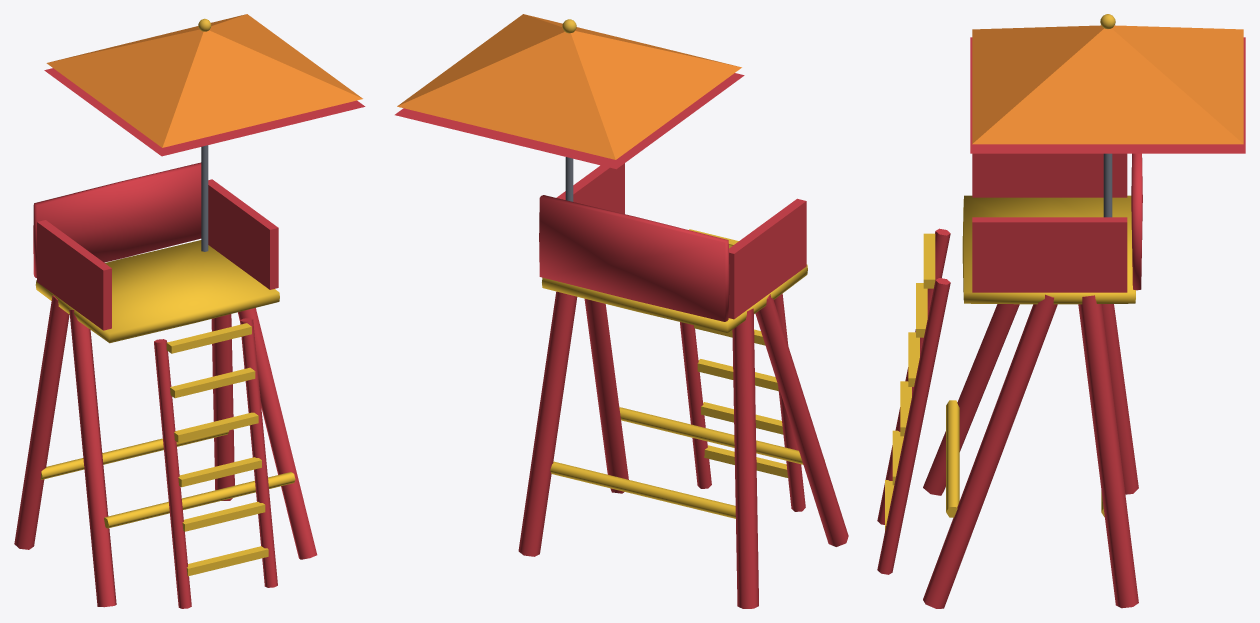
Rendered from lifeguard_chair.glb.
The picture shows the model from 3 angles, left to right: view 1: azimuth 30°, elevation 25°; view 2: azimuth 150°, elevation 25°; view 3: azimuth 270°, elevation 25°; orthographic projection. The views are drawn at different scales.
Visible parts, largest first — view 1: root; view 2: root; view 3: root.
Boxes of the visible parts, x1,y1,x2,y2 form: root: (14,14,365,608); root: (395,14,848,608); root: (877,14,1245,608).
Bounding box in the file's own units: 1.66 × 2.77 × 1.6.
